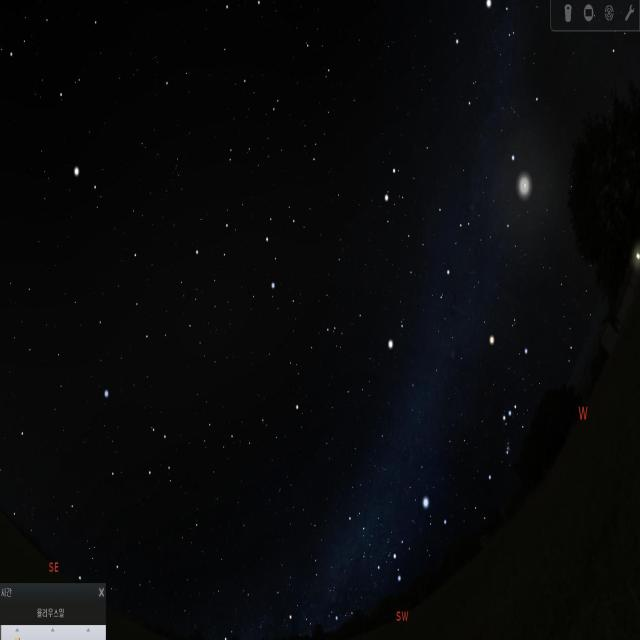bootes: (31, 0, 104, 202)
canis_major: (391, 500, 459, 585)
canis_minor: (379, 313, 408, 358)
gemini: (382, 164, 473, 292)
leo: (193, 198, 306, 309)
moon: (509, 164, 538, 212)
orion: (479, 318, 538, 485)
